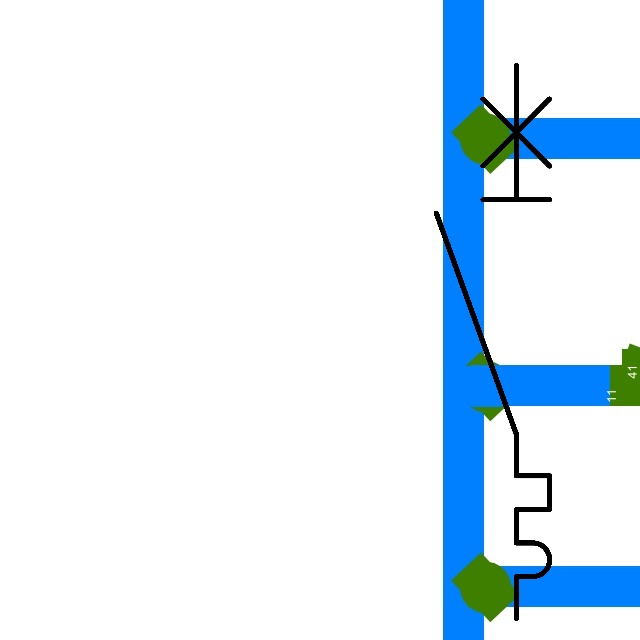interruptor_termomagnetico: (422, 51, 564, 633)
